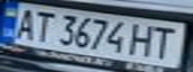3: (54, 11, 78, 47)
4: (106, 18, 130, 54)
6: (72, 15, 93, 49)
7: (87, 16, 109, 52)
A: (9, 6, 42, 40)
H: (124, 21, 160, 59)
T: (148, 24, 184, 60), (27, 9, 57, 43)
